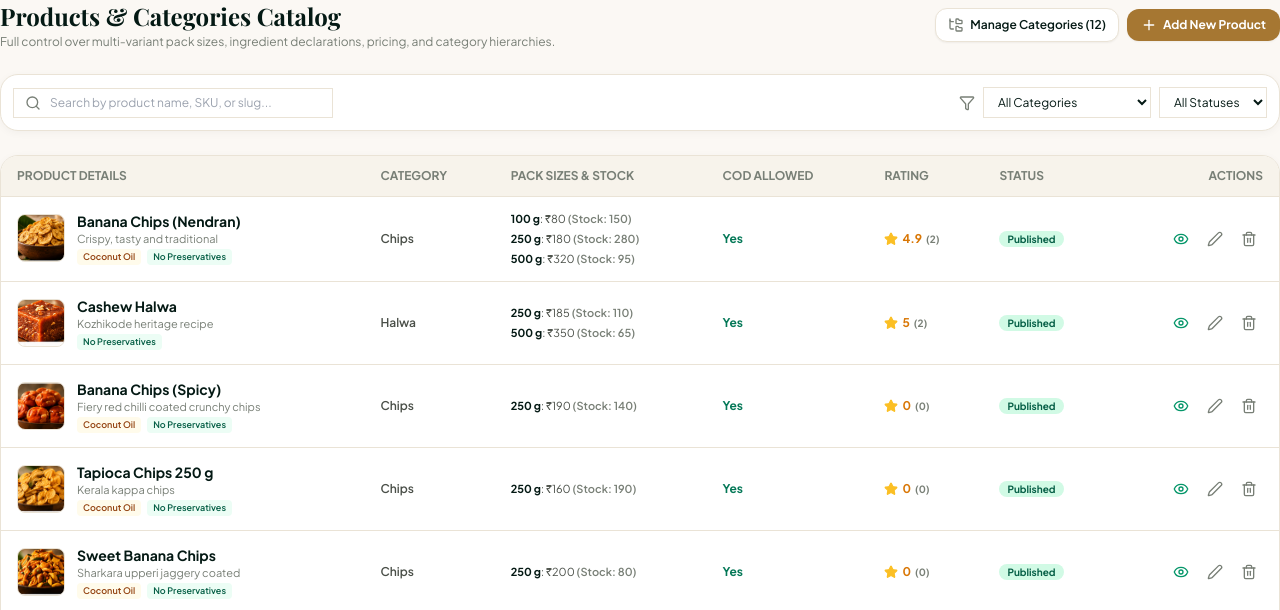
it: AdminProducts Integration: Add Point Button Verification › opens create modal and adds points to Description and Ingredients without loss
// Click "Add New Product" button
Click the button "Add New Product" at (1203, 25), box [1127, 9, 1279, 41]
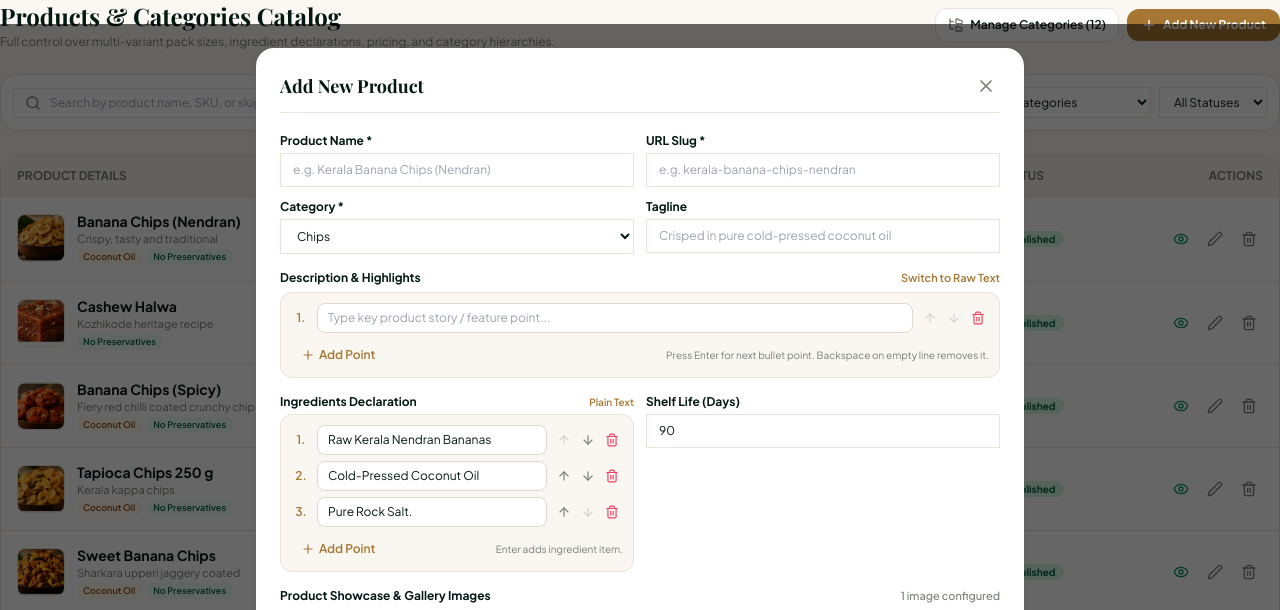
Check: the heading "Add New Product" is shown, box [280, 72, 424, 100]
// Click Add Point on Description
Click the button "Add Point" below "Description & Highlights" at (338, 355), box [291, 343, 385, 367]
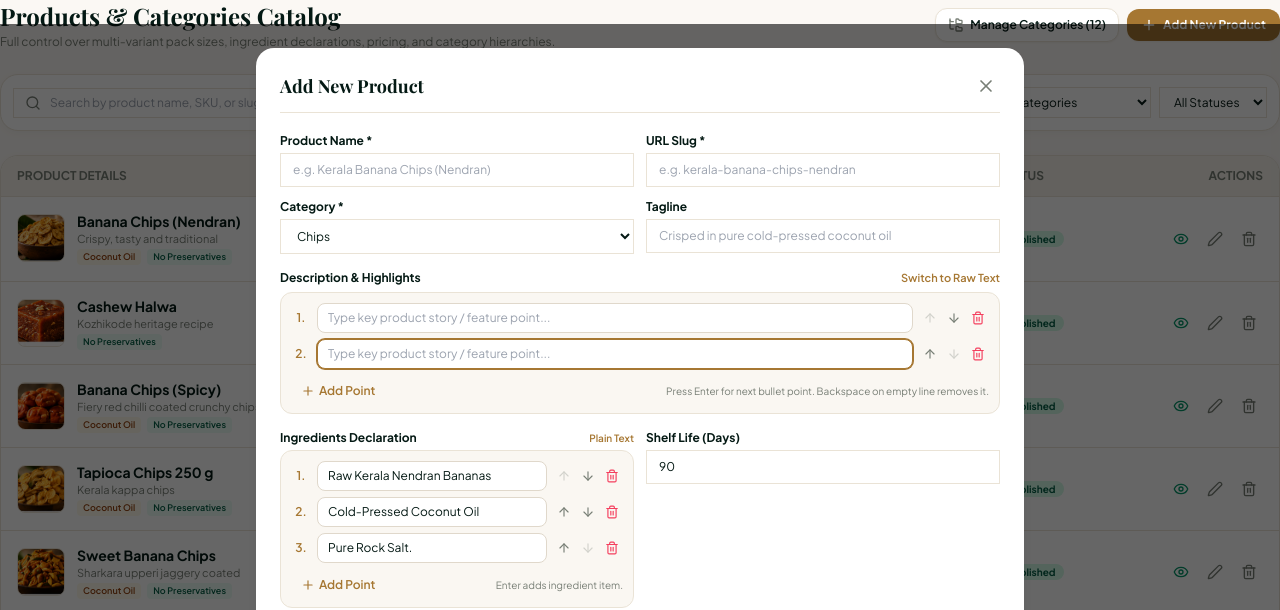
Type "Handmade with A2 Ghee" into the 2nd field with placeholder "Type key product story / feature point..." at (615, 354), box [317, 339, 913, 369]
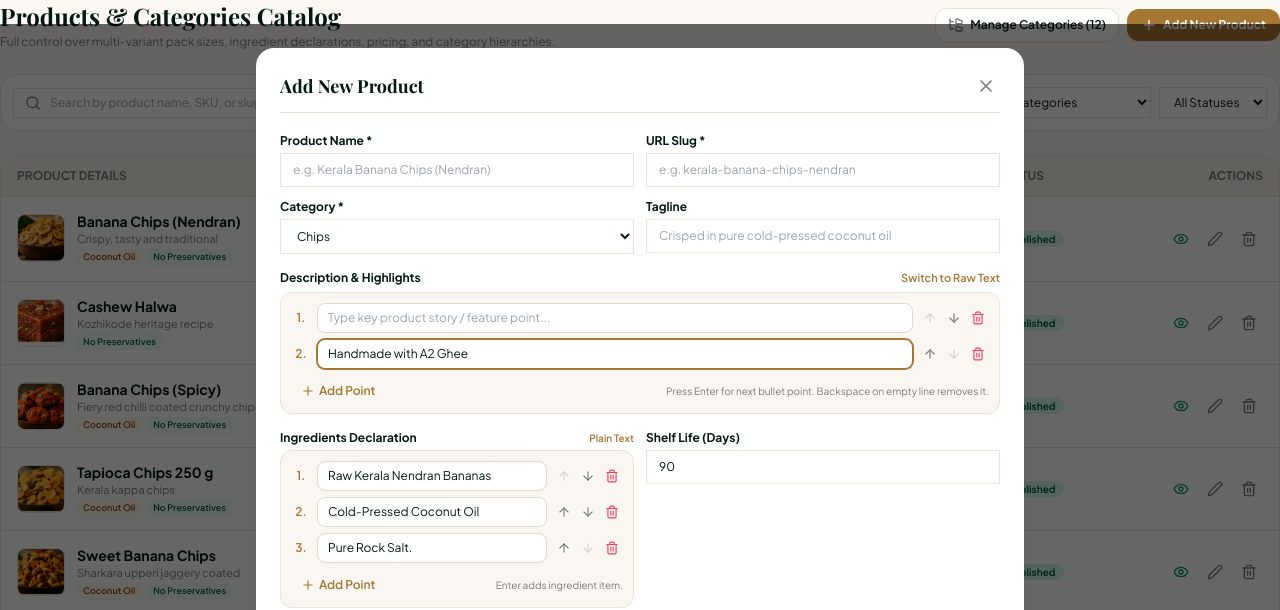
// Click Add Point on Ingredients
Click the button "Add Point" next to "Enter adds ingredient item." at (338, 585), box [291, 573, 385, 597]
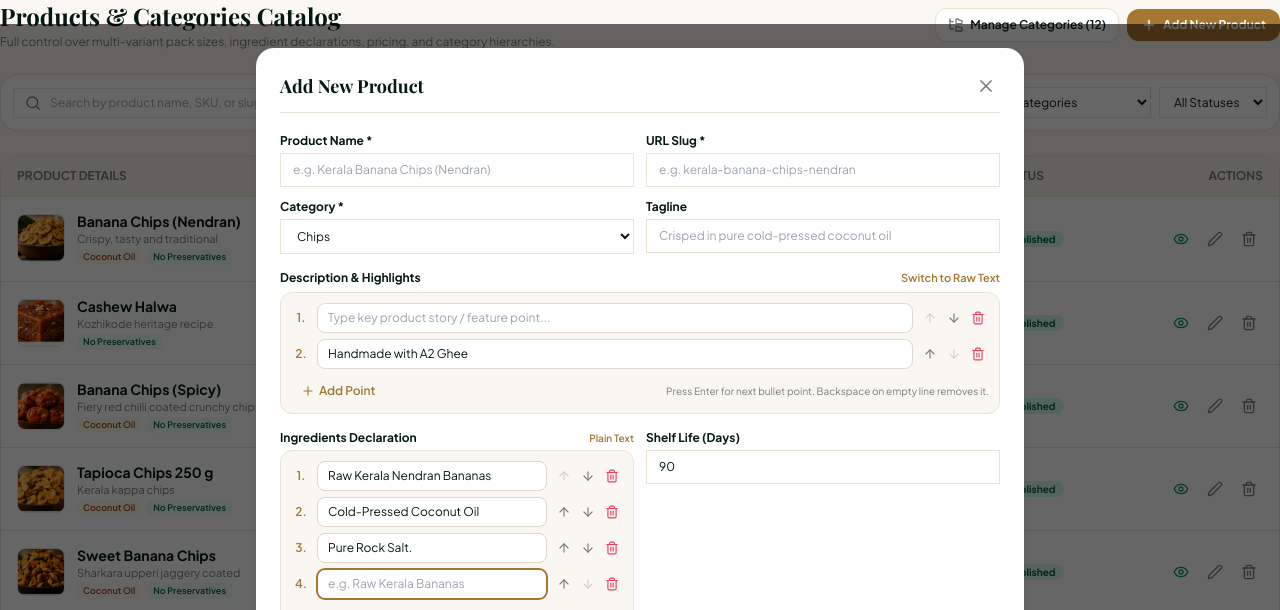
// Toggle description mode to raw text and back to verify sync
Click the button "Switch to Raw Text" at (951, 278), box [901, 270, 1000, 286]
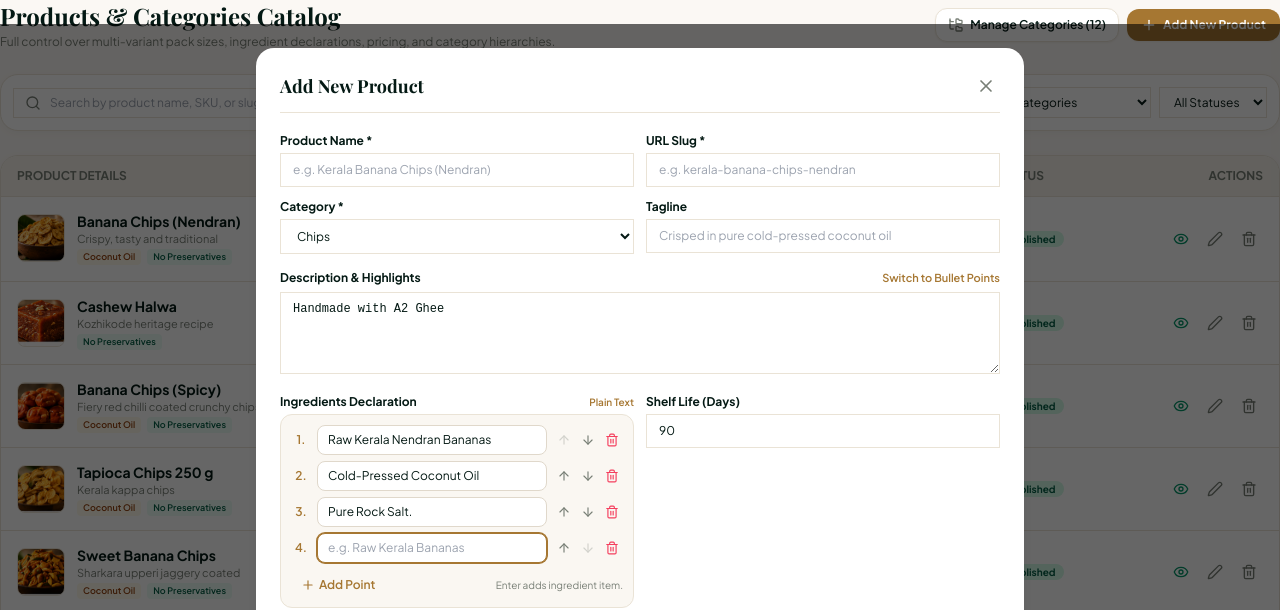
Check: the text box with placeholder "Detailed culinary and preparation story" holds "Handmade with A2 Ghee", box [280, 292, 1000, 374]
// Switch back to bullet points
Click the button "Switch to Bullet Points" at (941, 278), box [882, 270, 1000, 286]
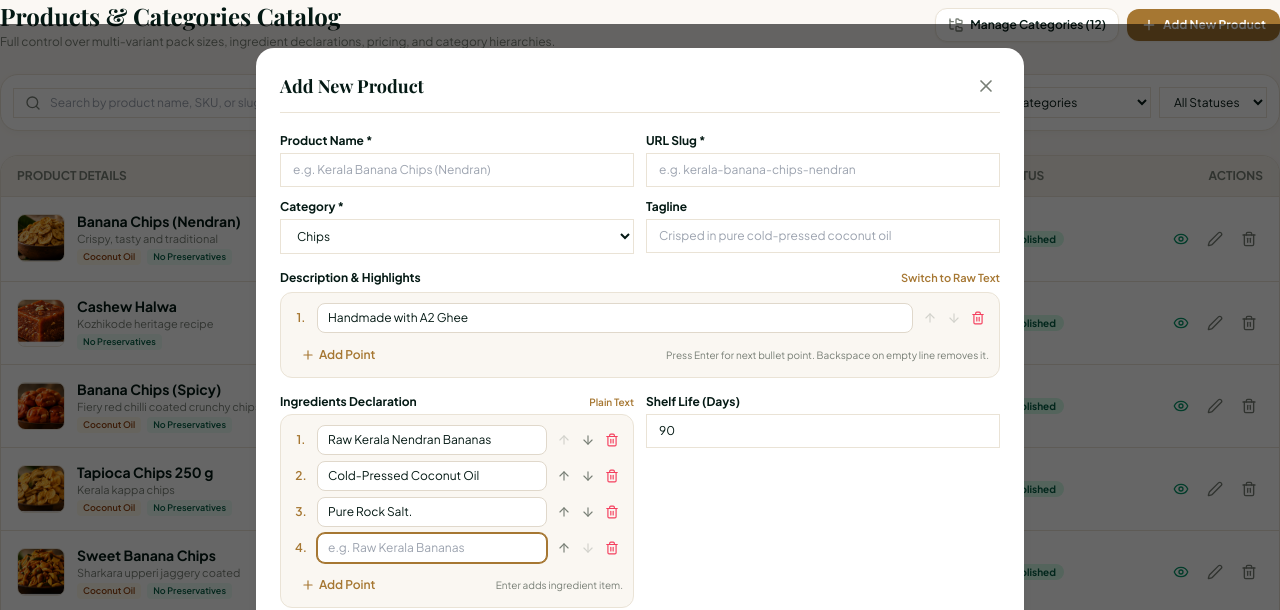
Check: the field showing "Handmade with A2 Ghee" below "Description & Highlights" is shown, box [317, 303, 913, 333]
